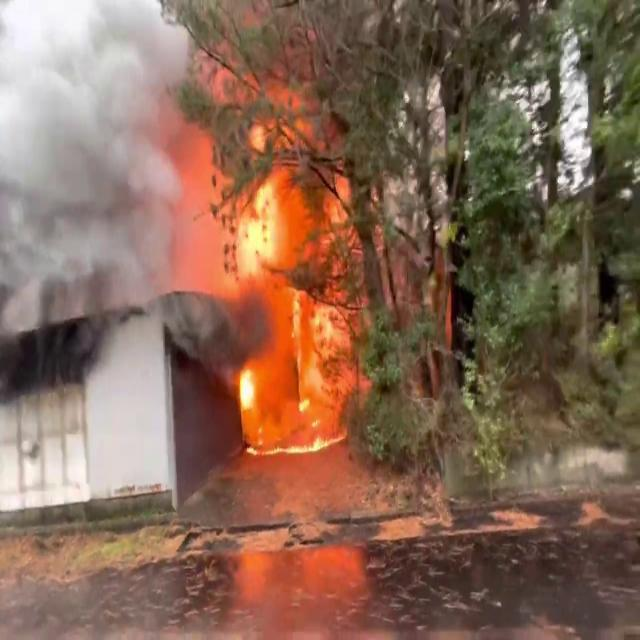Fire: (188, 147, 396, 456)
Smoke: (0, 0, 223, 364)
